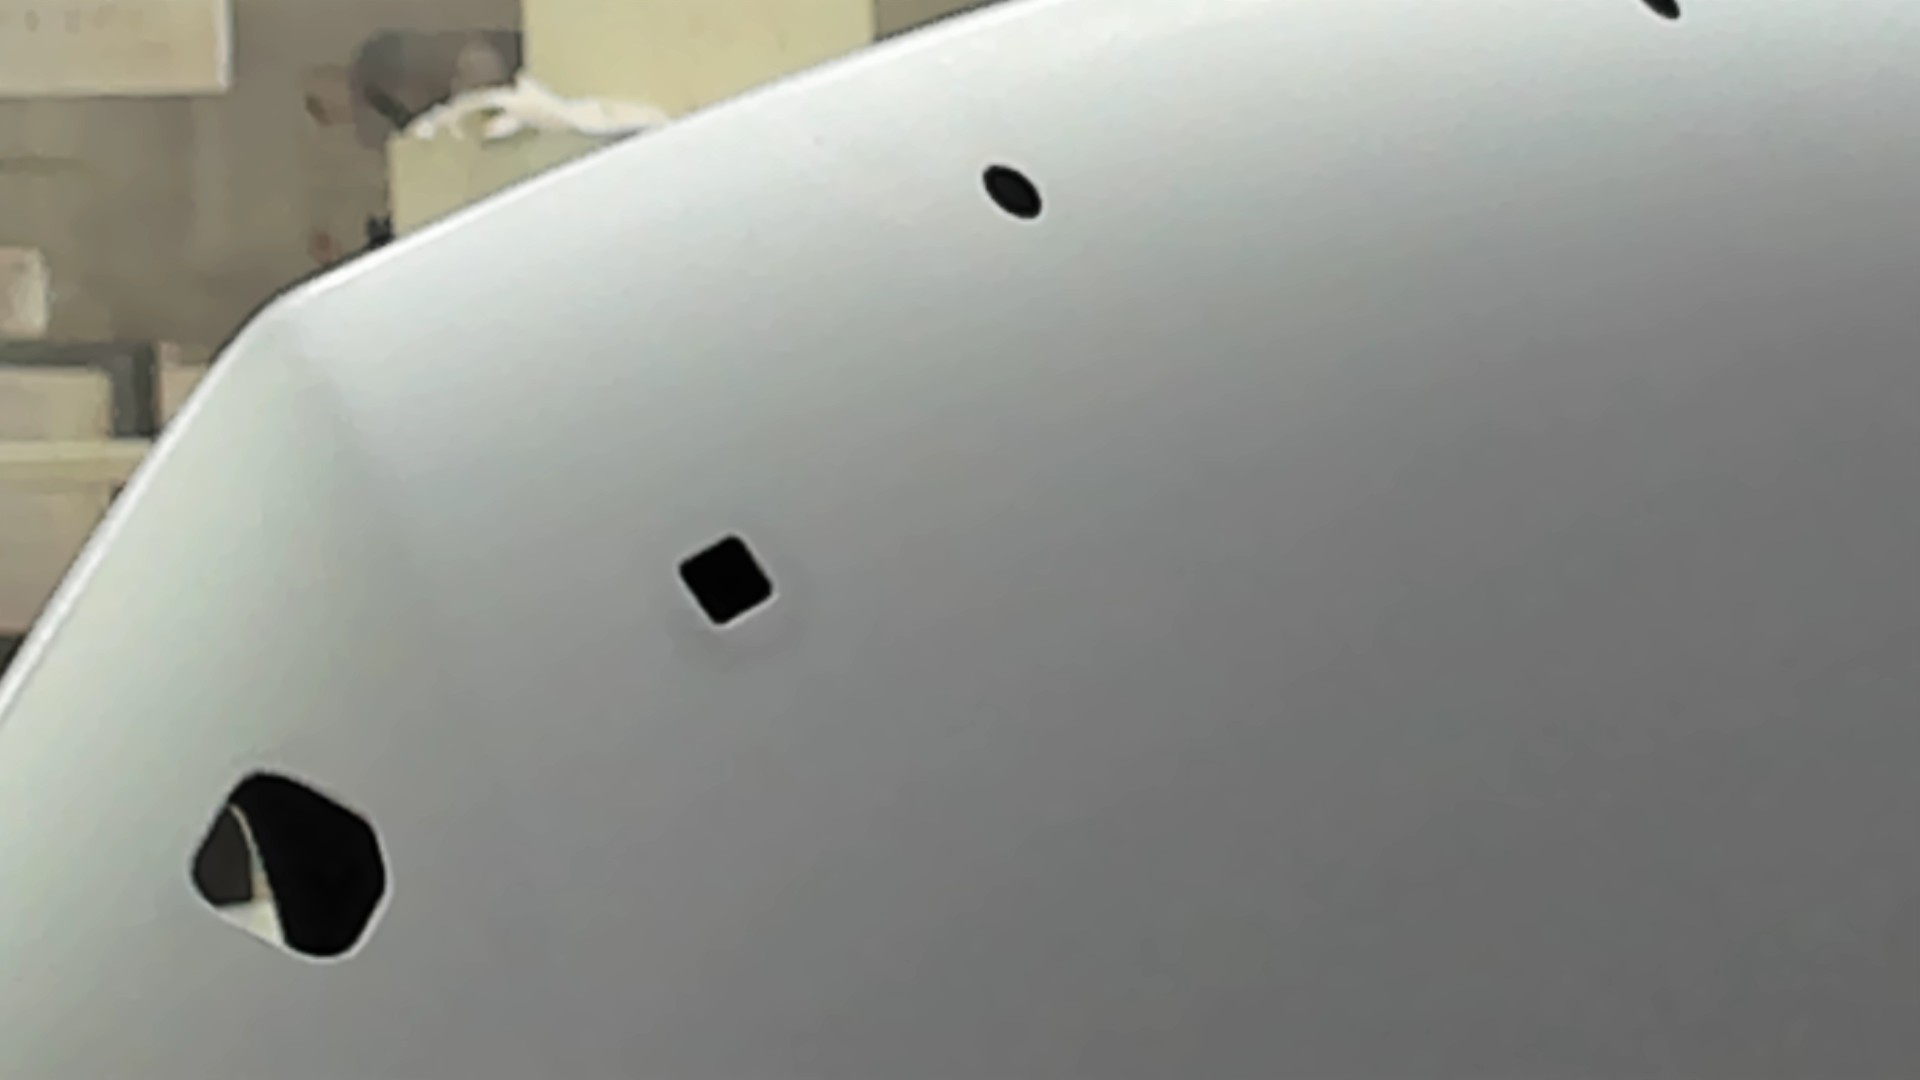chico: (980, 160, 1043, 225), (1636, 1, 1687, 26)
grande: (178, 767, 402, 977)
mediano: (673, 526, 778, 636)
